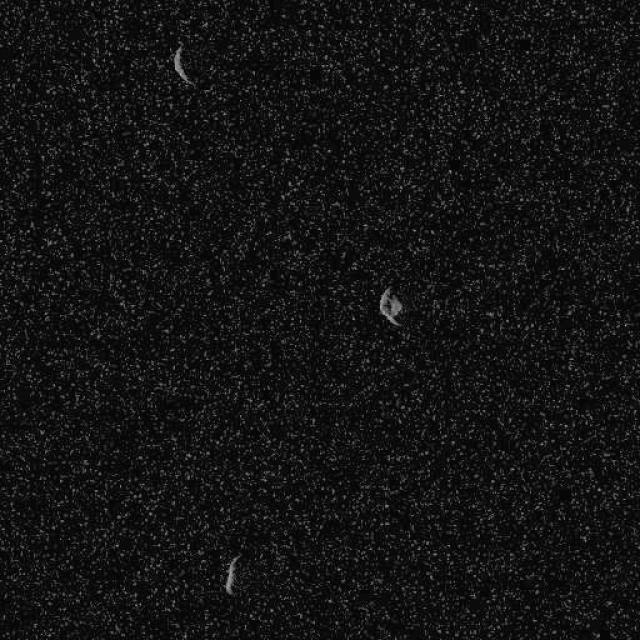D2: (171, 42, 194, 86), (378, 286, 403, 326), (222, 553, 242, 595)
